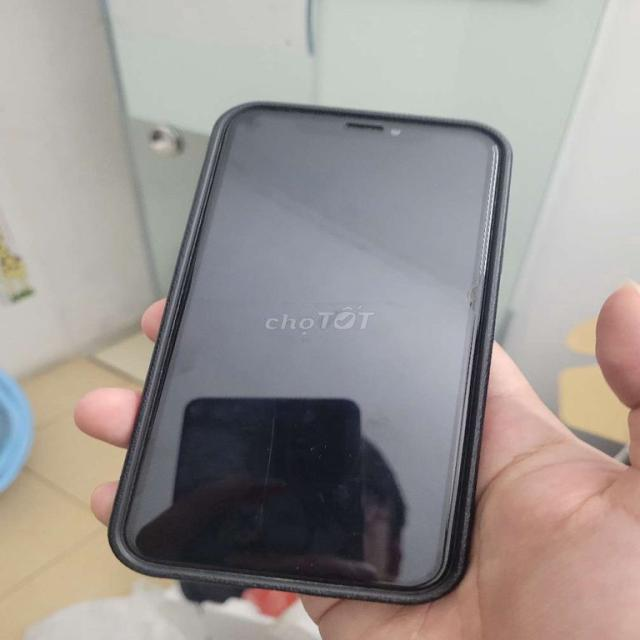physical_damage: (455, 269, 491, 315)
